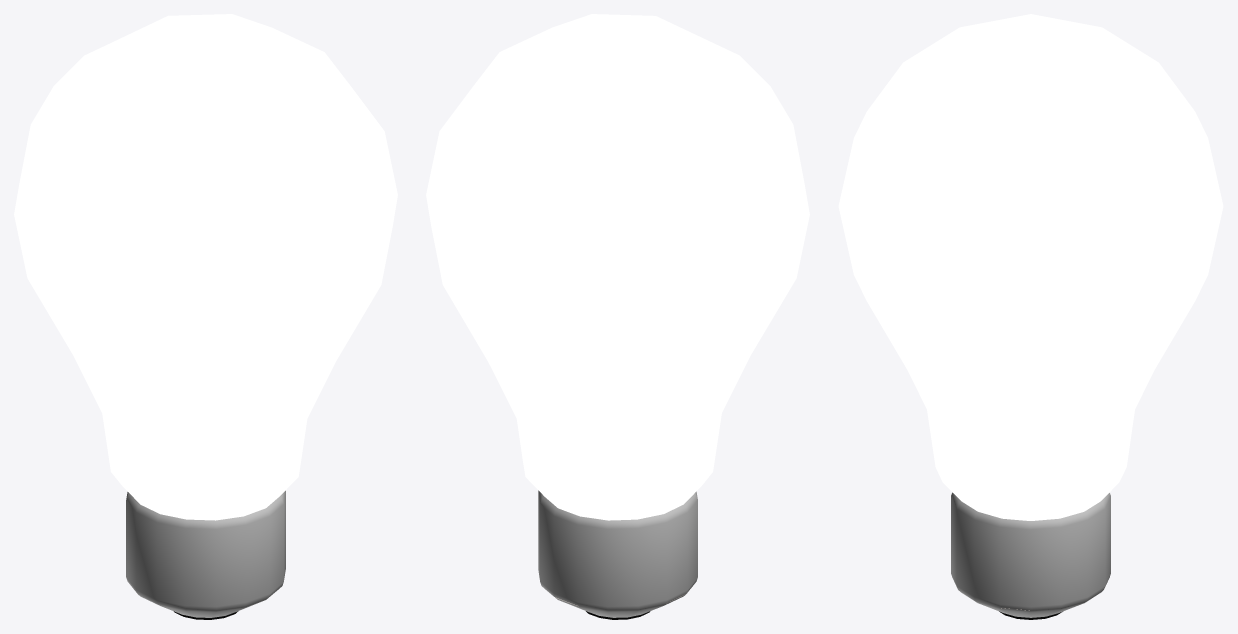
The model's file is bulb.glb.
3 renders of one model, left to right at view 1: azimuth 30°, elevation 25°; view 2: azimuth 150°, elevation 25°; view 3: azimuth 270°, elevation 25°, orthographic.
Visible parts, largest first — view 1: #LMP0003_Light_Bulb_Low_Poly; view 2: #LMP0003_Light_Bulb_Low_Poly; view 3: #LMP0003_Light_Bulb_Low_Poly.
Part boxes in pixels (x1,y1,x2,y2): #LMP0003_Light_Bulb_Low_Poly: [14, 14, 397, 619]; #LMP0003_Light_Bulb_Low_Poly: [426, 14, 809, 619]; #LMP0003_Light_Bulb_Low_Poly: [838, 14, 1223, 619].
Bounding box in the file's own units: 0.0752 × 0.1256 × 0.0752.
1 material, 1 textured.
